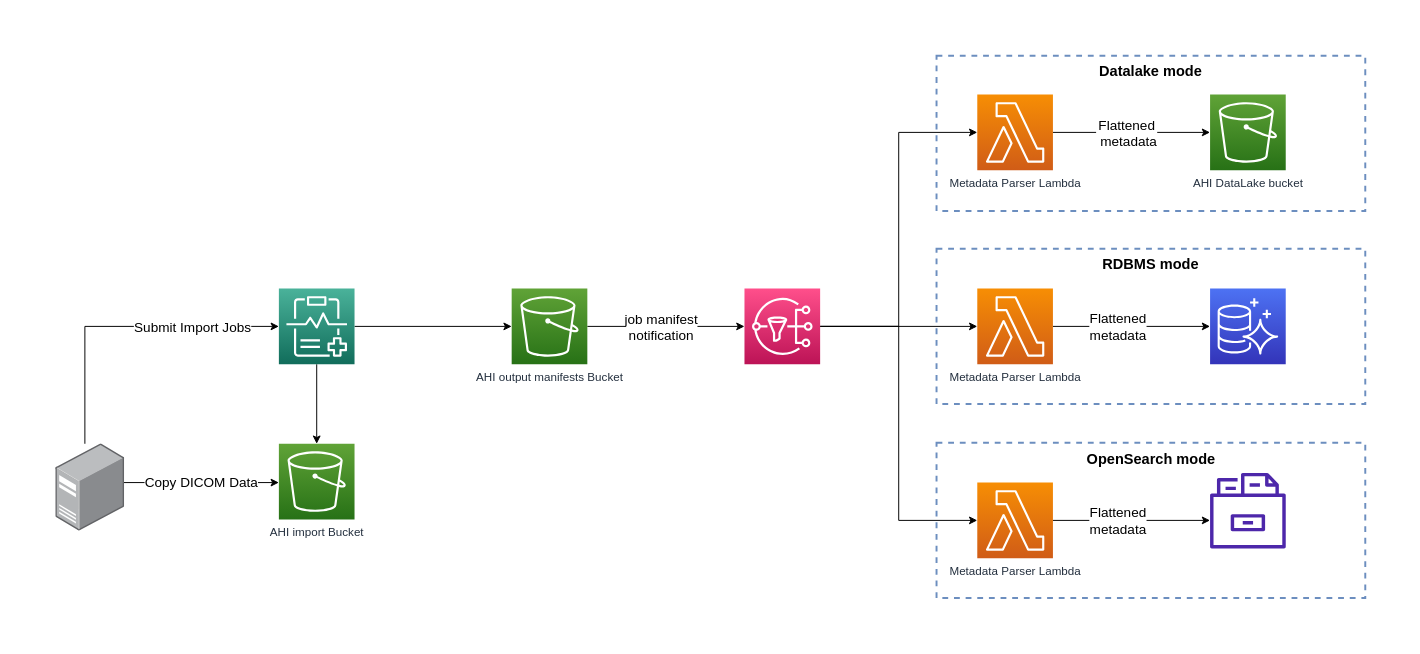
Image size: 1420x654. Some labels were removed from this diagram. The box of each missing label's shape, as (x1, y1, x2, y2) in pixels:
Aurora serverless Mysql: (1209, 288, 1286, 364)
OpenSearch: (1210, 472, 1285, 548)
SNS: (744, 288, 820, 364)
